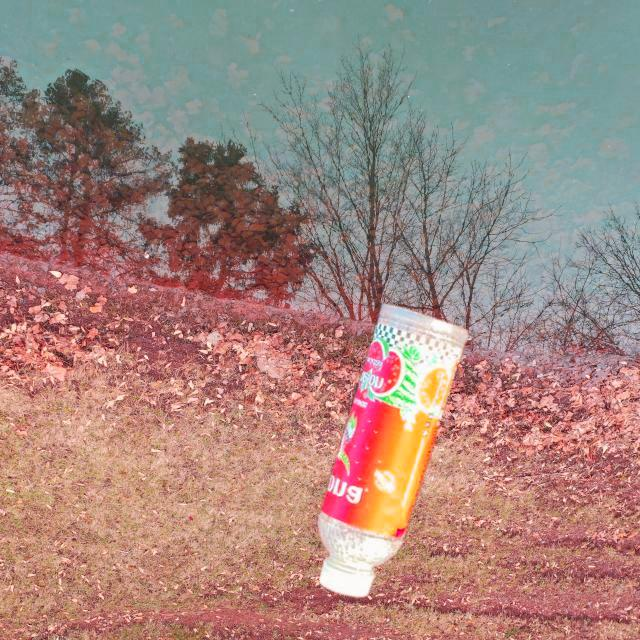Plastic: (313, 296, 474, 603)
